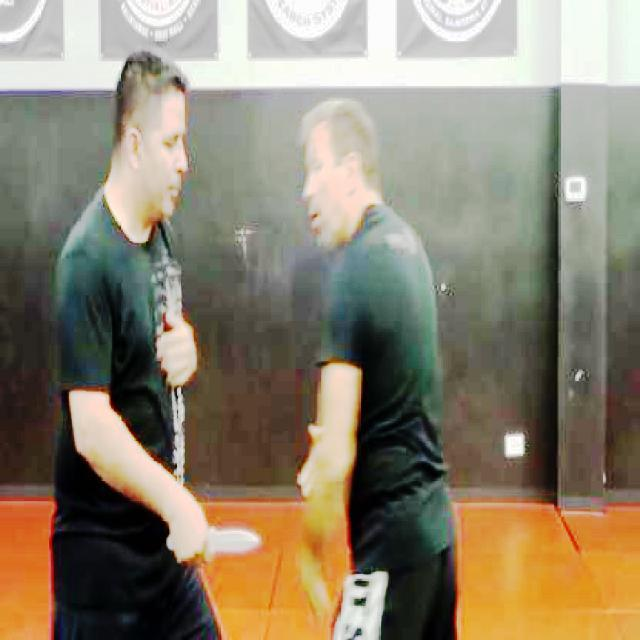Knife: (160, 521, 265, 562)
